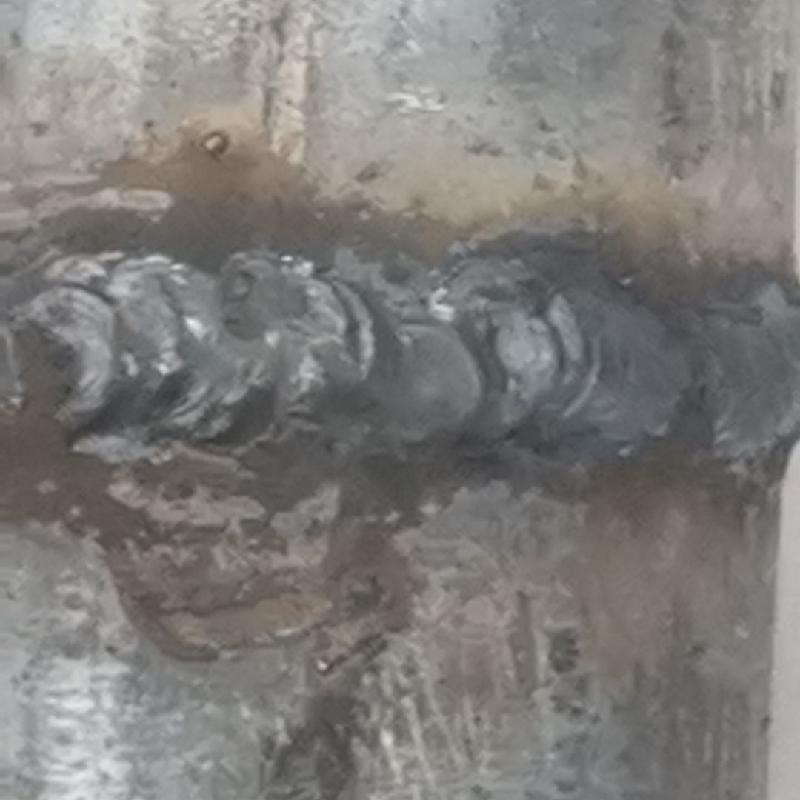good: (1, 225, 799, 484)
